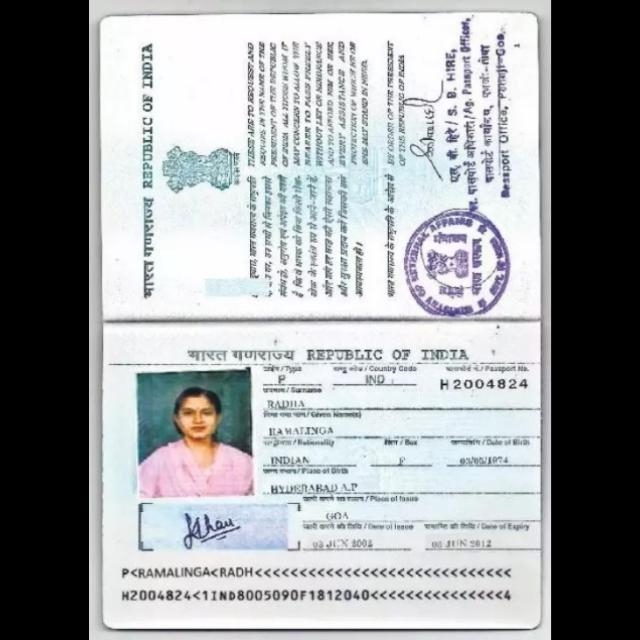passport: (94, 311, 548, 634)
